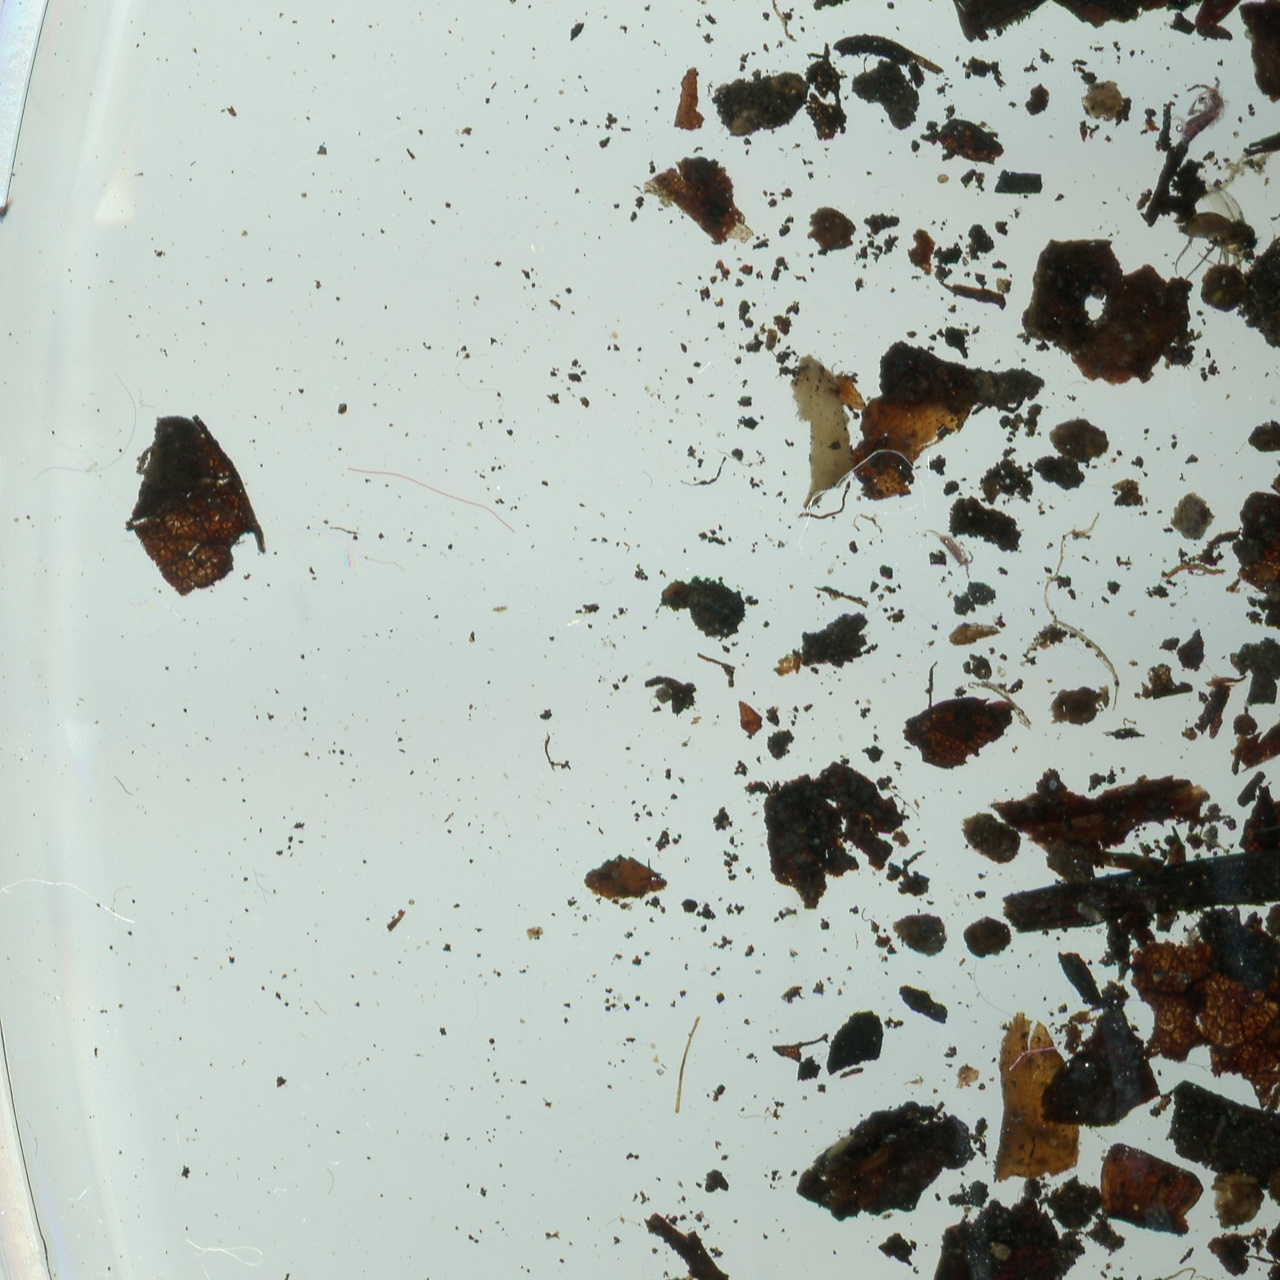arthropod: (1172, 184, 1259, 287), (1180, 74, 1225, 145), (927, 527, 976, 579)
